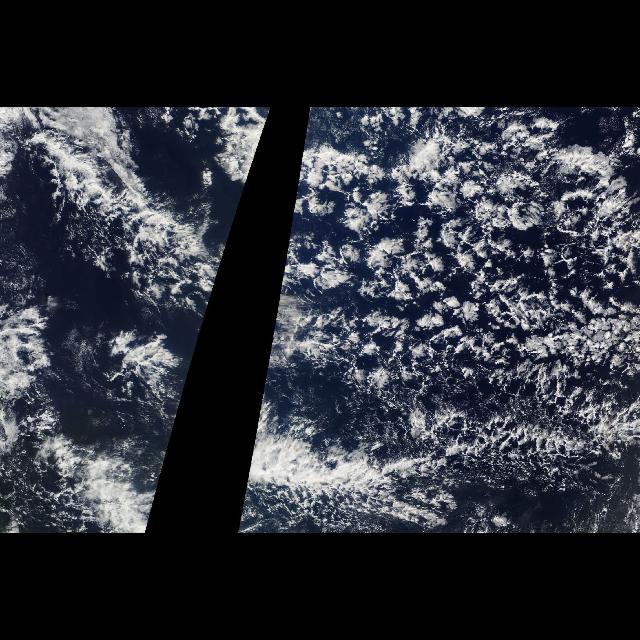Fish: (5, 112, 264, 476), (246, 388, 264, 476)
Flower: (320, 168, 538, 320)
Gravel: (285, 112, 639, 488)
